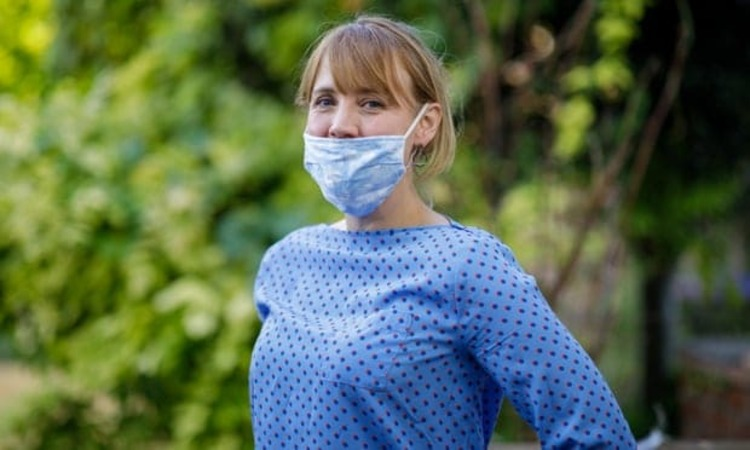with_incorrect_mask: (307, 65, 409, 208)
